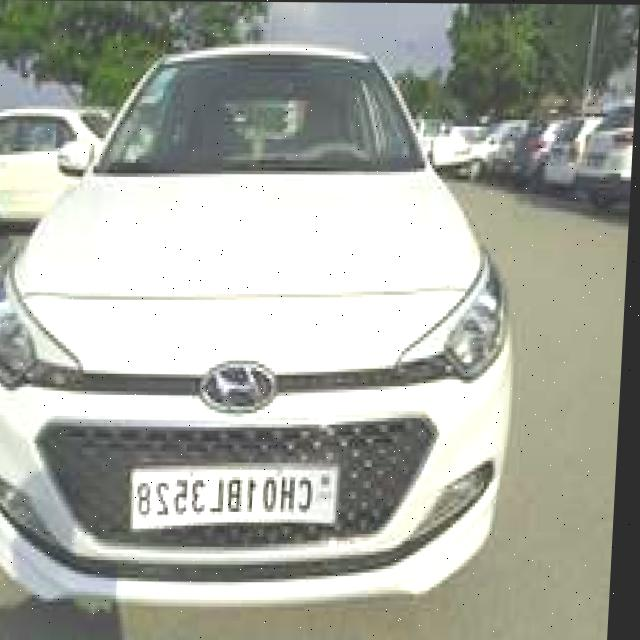plate: (136, 461, 347, 536)
